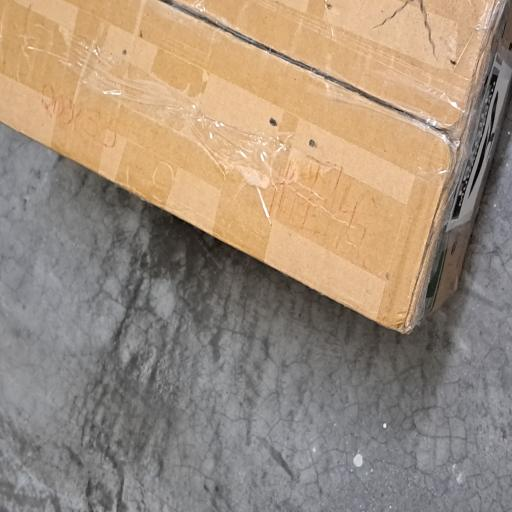cardboard: (0, 0, 512, 332)
